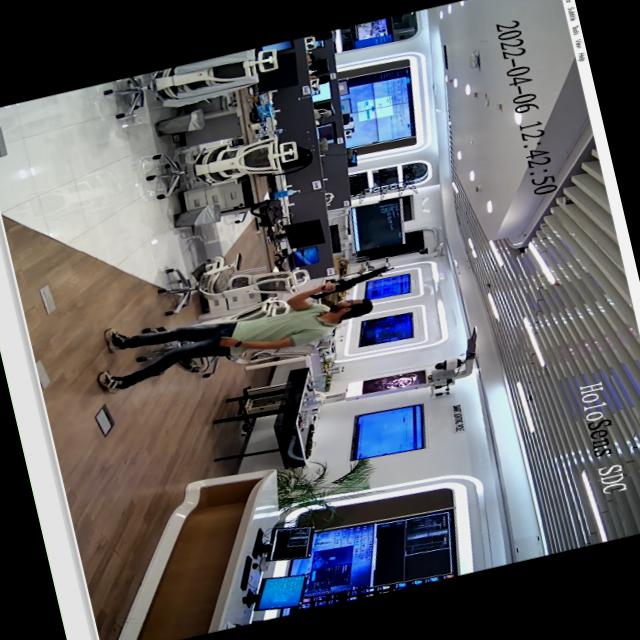long weapon: (293, 256, 409, 308)
